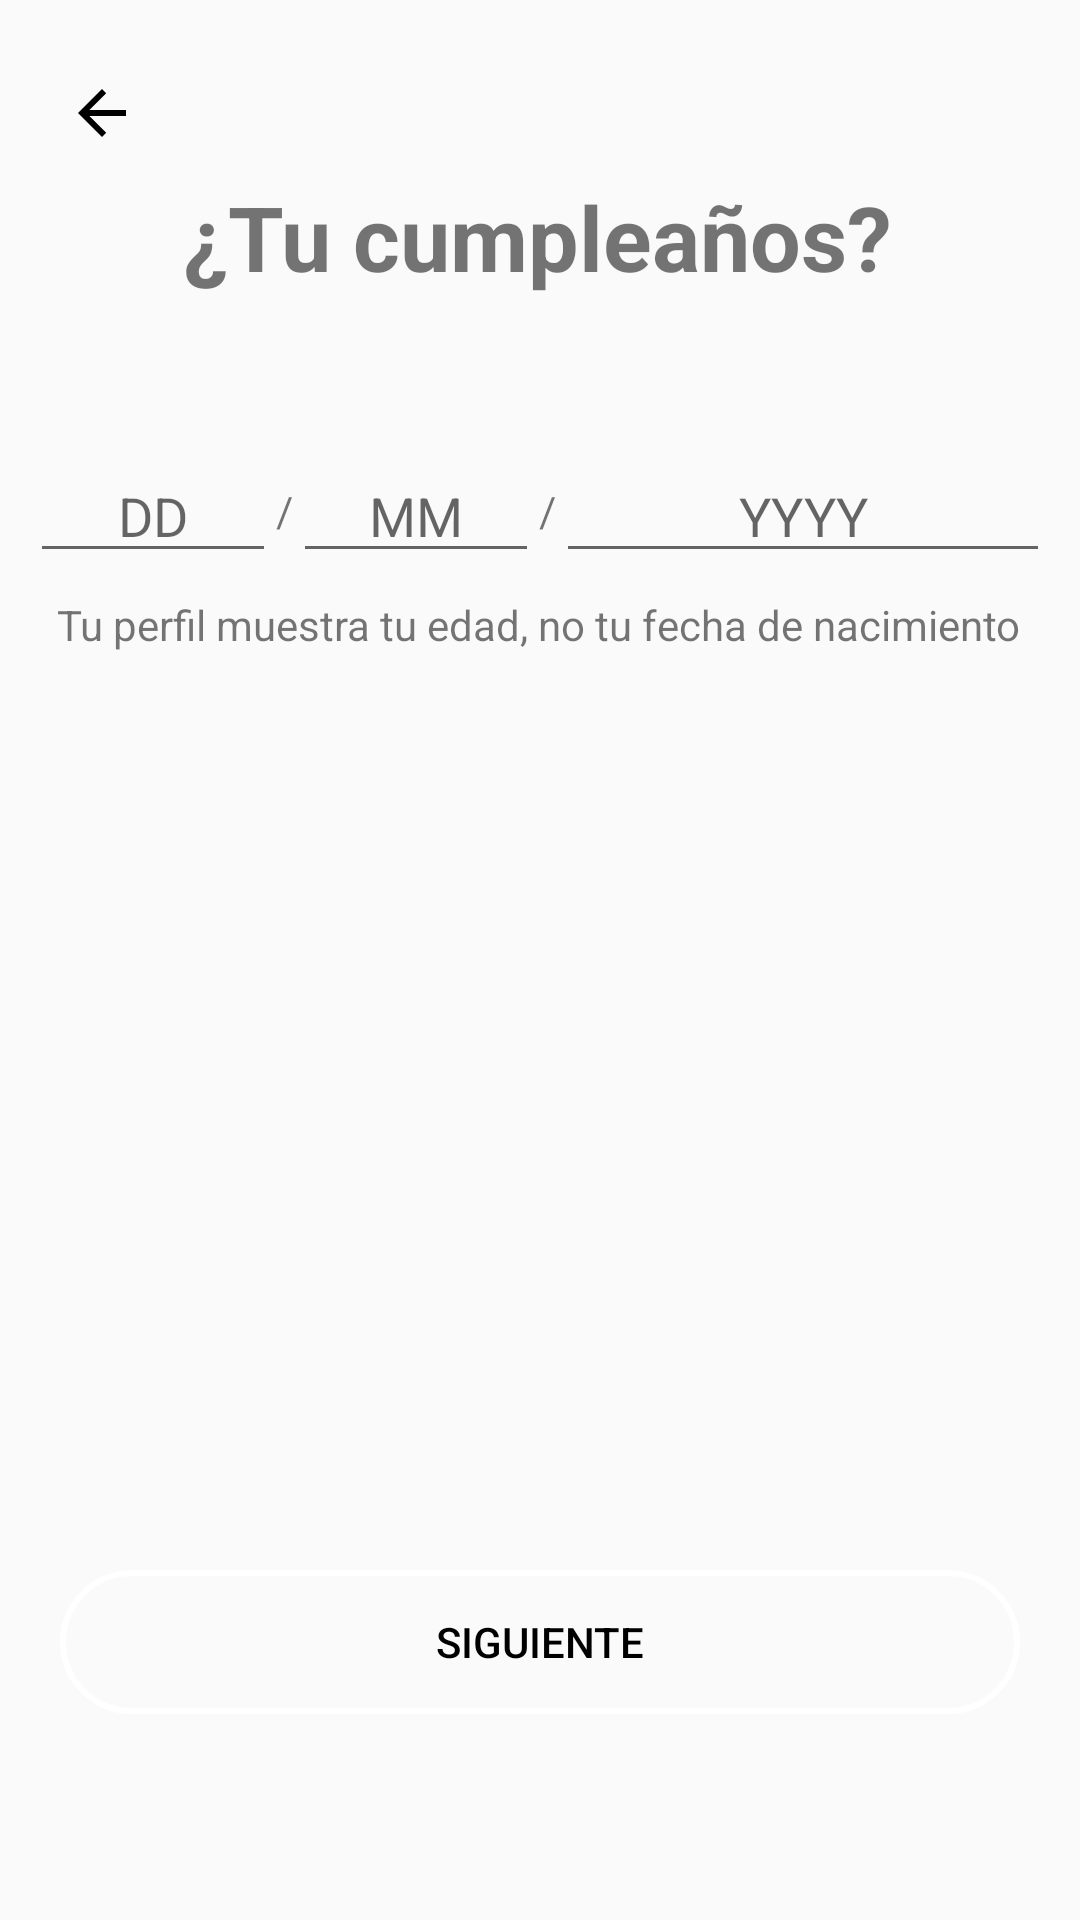

Icons on this 1080×1920 Android screen, each with the point to tap as point (x, y):
Volver atras: point (102, 113)
